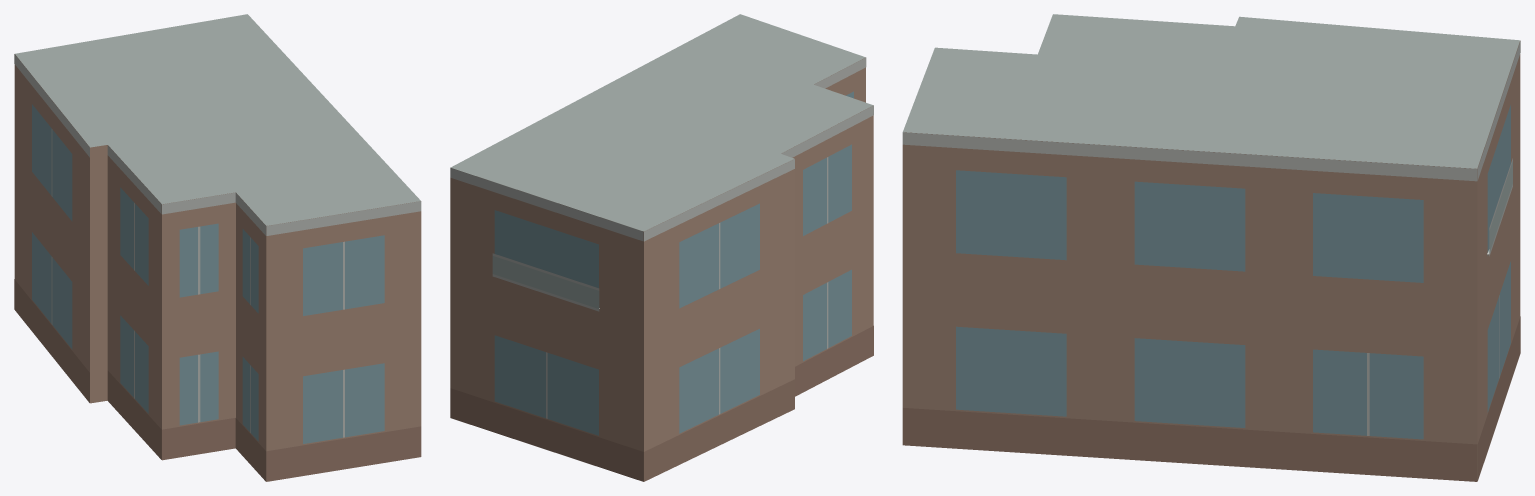
The model's file is survey-upis-32819668.glb.
The picture shows the model from 3 angles, left to right: view 1: azimuth 30°, elevation 25°; view 2: azimuth 150°, elevation 25°; view 3: azimuth 270°, elevation 25°; orthographic projection. The views are drawn at different scales.
Visible parts, largest first — view 1: survey-upis-32819668.tmp; view 2: survey-upis-32819668.tmp; view 3: survey-upis-32819668.tmp.
Boxes of the visible parts, left/top/right/bottom form: survey-upis-32819668.tmp: left=14, top=14, right=421, bottom=481; survey-upis-32819668.tmp: left=450, top=14, right=873, bottom=481; survey-upis-32819668.tmp: left=902, top=14, right=1520, bottom=481.
Size of the model in its own units: 6.48 by 6.1 by 10.92.
